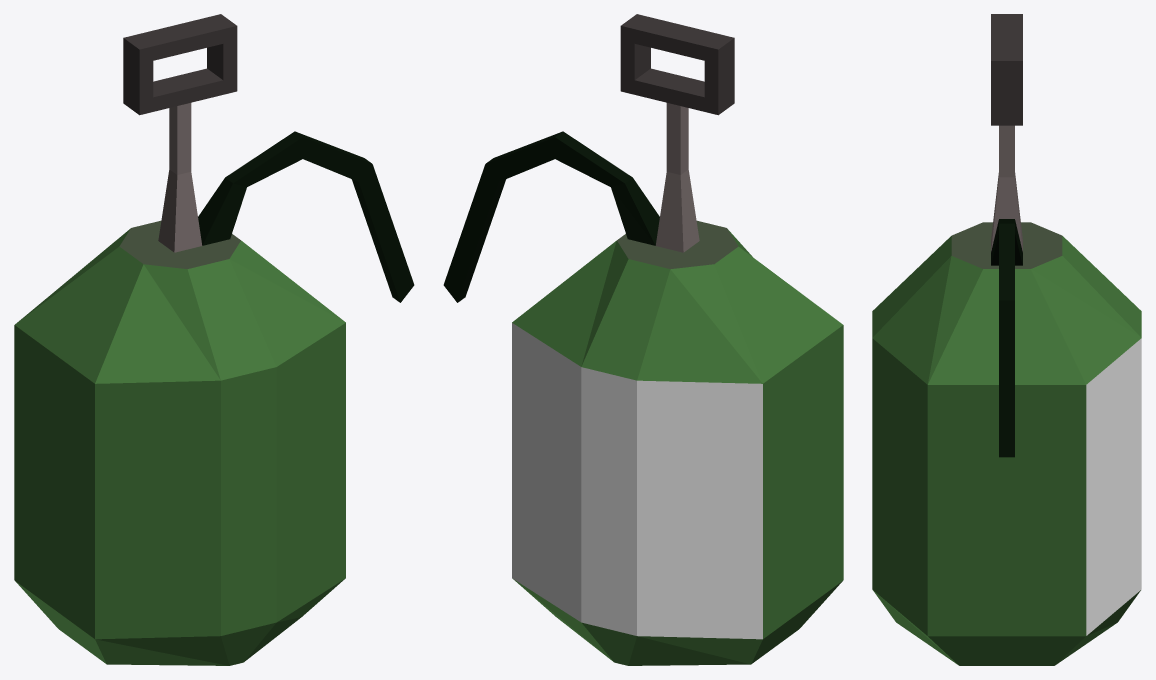
The model's file is inv_insect_repellent.obj.
3 views of the same model, side by side, from view 1: azimuth 30°, elevation 25°; view 2: azimuth 150°, elevation 25°; view 3: azimuth 270°, elevation 25° (orthographic).
Size of the model in its own units: 0.3984 by 0.6328 by 0.2656.
